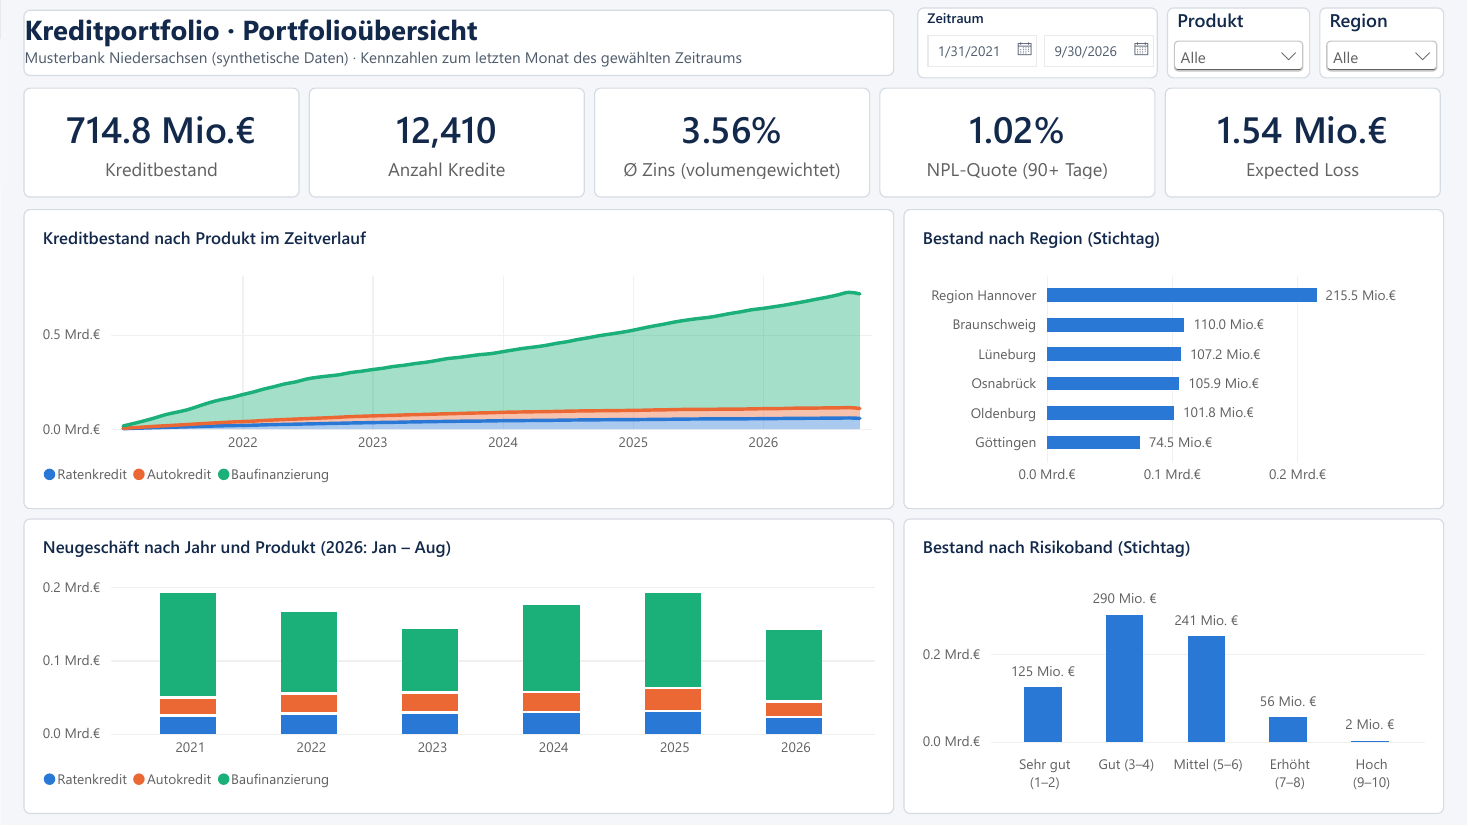

This screenshot's page, from the dashboard's own definition file:
{"tool":"powerbi","page":{"name":"Portfolioübersicht","canvas":[1280,720],"ordinal":0},"visuals":[{"type":"textbox","box":[20,8,760,58],"z":1000},{"type":"slicer","fields":{"Values":["dim_datum.datum"]},"box":[800,6,210,62],"z":2000},{"type":"slicer","fields":{"Values":["dim_produkt.produkt"]},"box":[1018,6,125,62],"z":3000},{"type":"slicer","fields":{"Values":["dim_region.region"]},"box":[1151,6,109,62],"z":4000},{"type":"card","fields":{"Values":["_Measures.Bestand Stichtag"]},"box":[20,76,241,96],"z":5000},{"type":"card","fields":{"Values":["_Measures.Anzahl Kredite Stichtag"]},"box":[269,76,241,96],"z":6000},{"type":"card","fields":{"Values":["_Measures.Zins volumengewichtet Stichtag"]},"box":[518,76,241,96],"z":7000},{"type":"card","fields":{"Values":["_Measures.NPL-Quote Stichtag"]},"box":[767,76,241,96],"z":8000},{"type":"card","fields":{"Values":["_Measures.Expected Loss"]},"box":[1016,76,241,96],"z":9000},{"type":"stackedAreaChart","title":"Kreditbestand nach Produkt im Zeitverlauf","fields":{"Category":["dim_datum.datum"],"Y":["_Measures.Bestand"],"Series":["dim_produkt.produkt"]},"box":[20,182,760,262],"z":10000},{"type":"clusteredBarChart","title":"Bestand nach Region (Stichtag)","fields":{"Category":["dim_region.region"],"Y":["_Measures.Bestand Stichtag"]},"box":[788,182,472,262],"z":11000},{"type":"columnChart","title":"Neugeschäft nach Jahr und Produkt (2026: Jan – Aug)","fields":{"Category":["dim_datum.jahr"],"Y":["_Measures.Neugeschäft Volumen"],"Series":["dim_produkt.produkt"]},"box":[20,452,760,258],"z":12000},{"type":"clusteredColumnChart","title":"Bestand nach Risikoband (Stichtag)","fields":{"Category":["dim_rating.risikoband"],"Y":["_Measures.Bestand Stichtag"]},"box":[788,452,472,258],"z":13000}]}

Visuals, with their boxes in screenshot pixels (x1, y1, x2, y2), scaled from the page's 1280x720 canvas onto the 1468x826 screenshot:
textbox: left=23, top=9, right=895, bottom=76
slicer - dim_datum.datum: left=918, top=7, right=1158, bottom=78
slicer - dim_produkt.produkt: left=1168, top=7, right=1311, bottom=78
slicer - dim_region.region: left=1320, top=7, right=1445, bottom=78
card - _Measures.Bestand Stichtag: left=23, top=87, right=299, bottom=197
card - _Measures.Anzahl Kredite Stichtag: left=309, top=87, right=585, bottom=197
card - _Measures.Zins volumengewichtet Stichtag: left=594, top=87, right=870, bottom=197
card - _Measures.NPL-Quote Stichtag: left=880, top=87, right=1156, bottom=197
card - _Measures.Expected Loss: left=1165, top=87, right=1442, bottom=197
"Kreditbestand nach Produkt im Zeitverlauf" stackedAreaChart: left=23, top=209, right=895, bottom=509
"Bestand nach Region (Stichtag)" clusteredBarChart: left=904, top=209, right=1445, bottom=509
"Neugeschäft nach Jahr und Produkt (2026: Jan – Aug)" columnChart: left=23, top=519, right=895, bottom=815
"Bestand nach Risikoband (Stichtag)" clusteredColumnChart: left=904, top=519, right=1445, bottom=815
